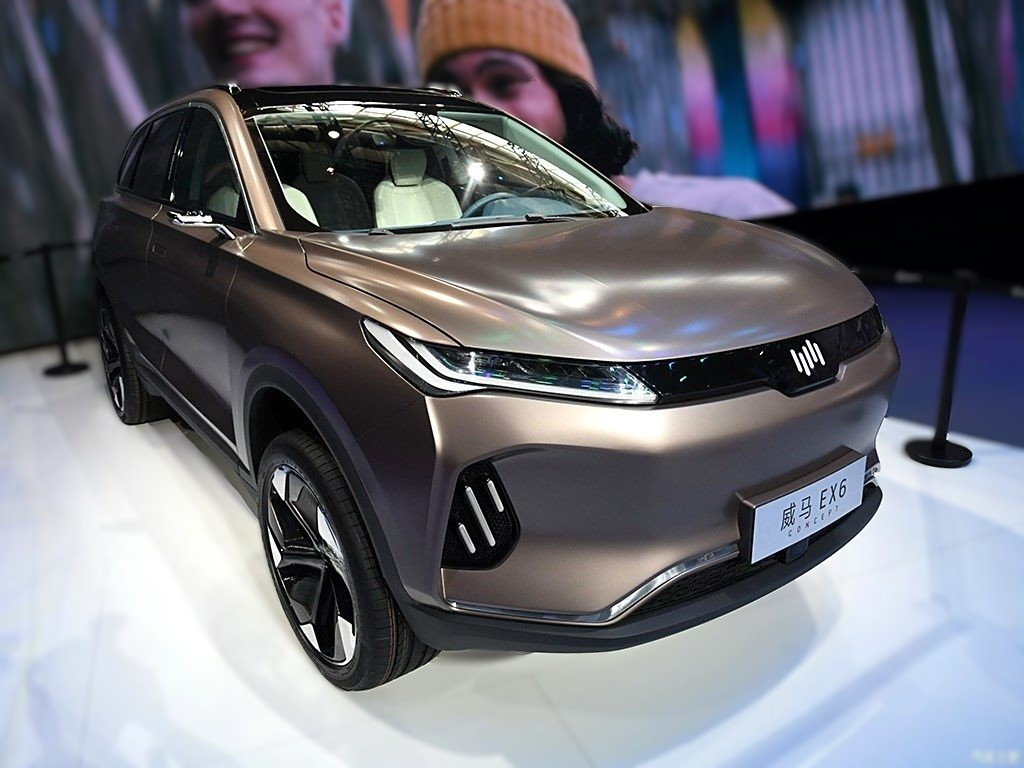WELTMEISTER: (791, 340, 825, 375)
